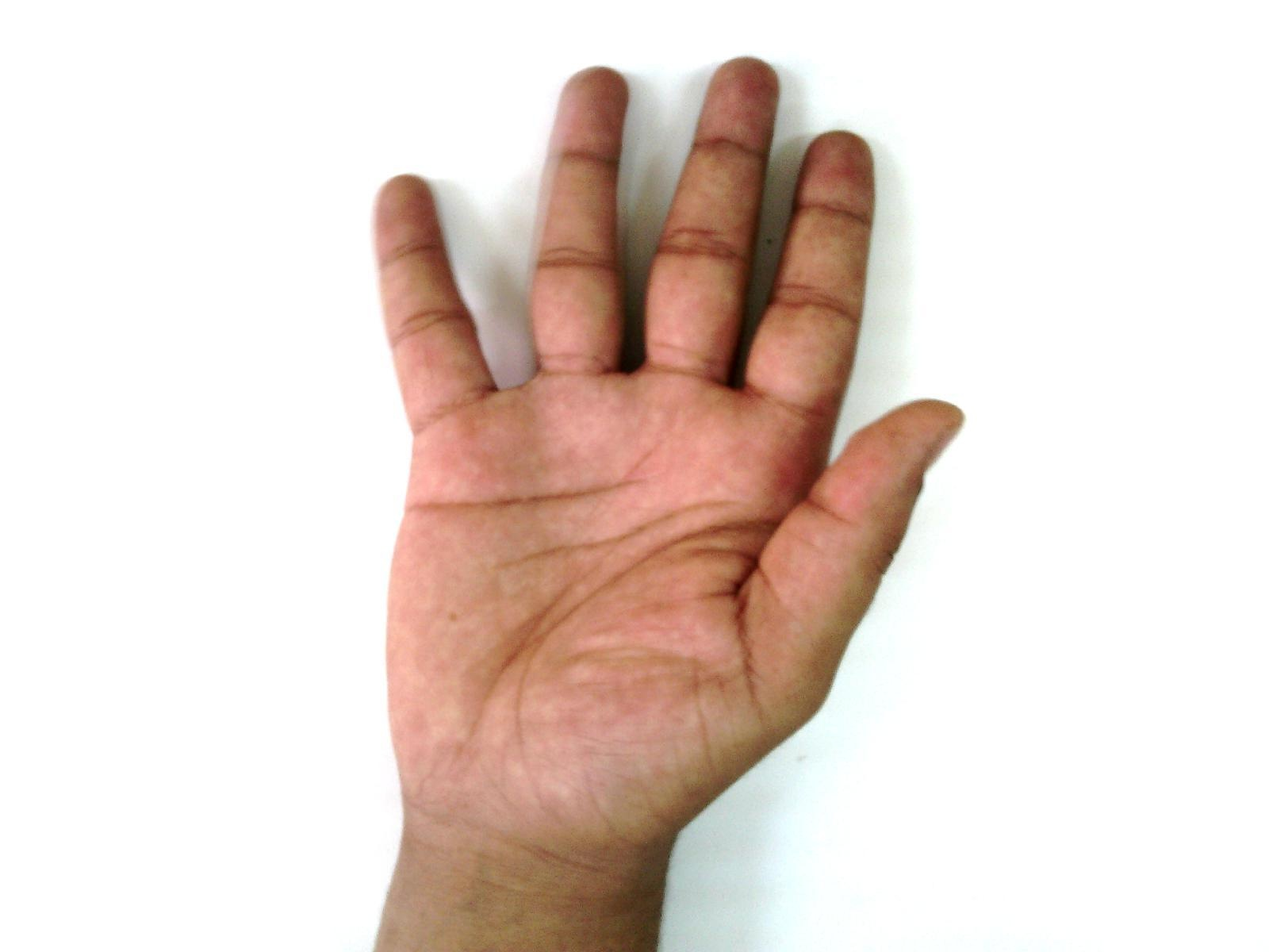open_palm: (366, 56, 967, 876)
